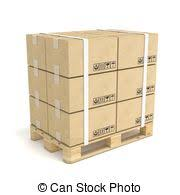box: (69, 69, 117, 114), (70, 101, 116, 147), (67, 36, 117, 78), (116, 61, 156, 102), (115, 91, 156, 131), (117, 31, 157, 69), (45, 34, 70, 79), (46, 104, 71, 149), (45, 71, 69, 115), (28, 96, 48, 138), (25, 33, 46, 72), (26, 66, 46, 105)
pallet: (28, 122, 155, 165)
